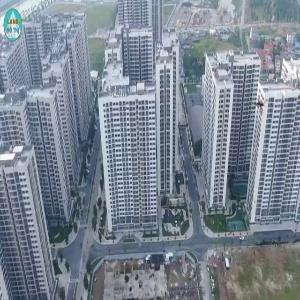drone: (232, 77, 293, 138)
